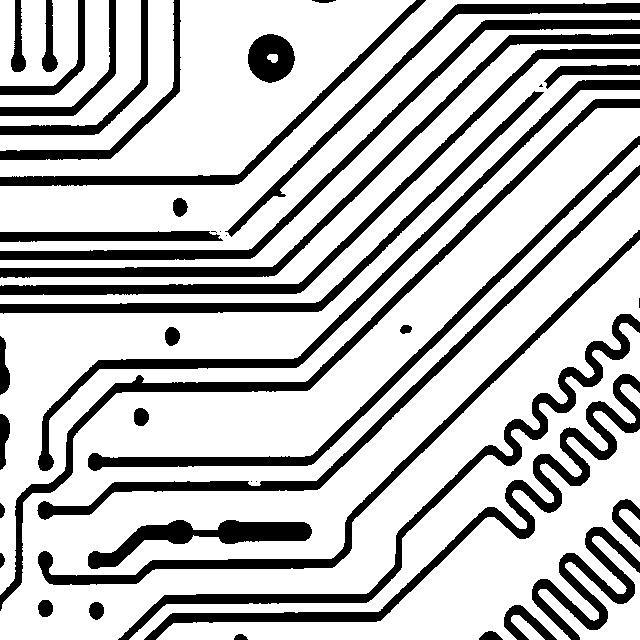copper: (390, 315, 421, 343)
mousebite: (238, 466, 270, 495)
open: (199, 220, 240, 254), (524, 72, 556, 101)
pin-hole: (257, 44, 287, 72)
short: (177, 520, 236, 546)
spur: (121, 365, 153, 397), (262, 179, 295, 206)
